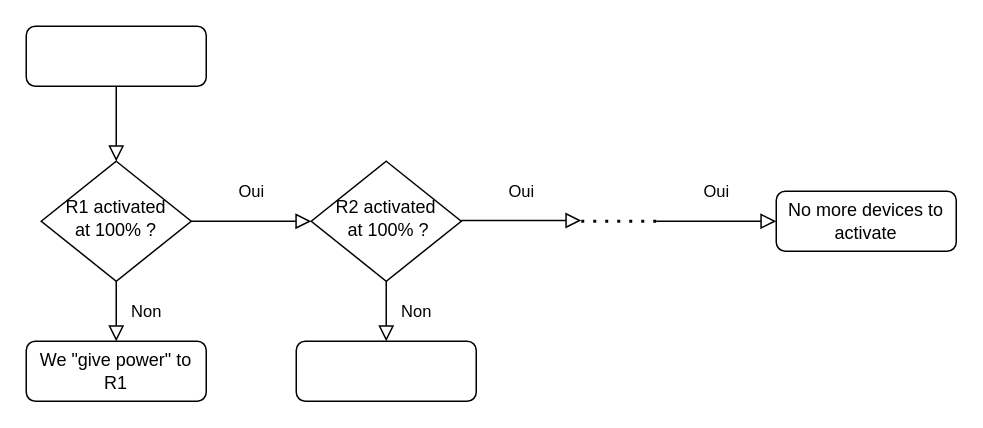
Some shapes in this 983 by 428 pixel diagram are drawn without their labels. The shapes that lost their labels are listed below. From the top down, each one's centre as x and y in pixels, then its label:
point 115,55: Power produced in excess
point 385,370: We "give power" to R2
